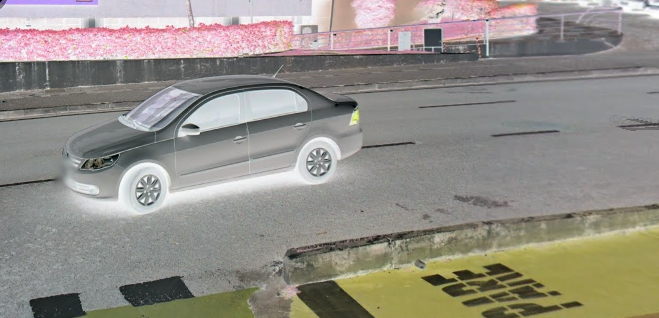car: (64, 61, 365, 218)
